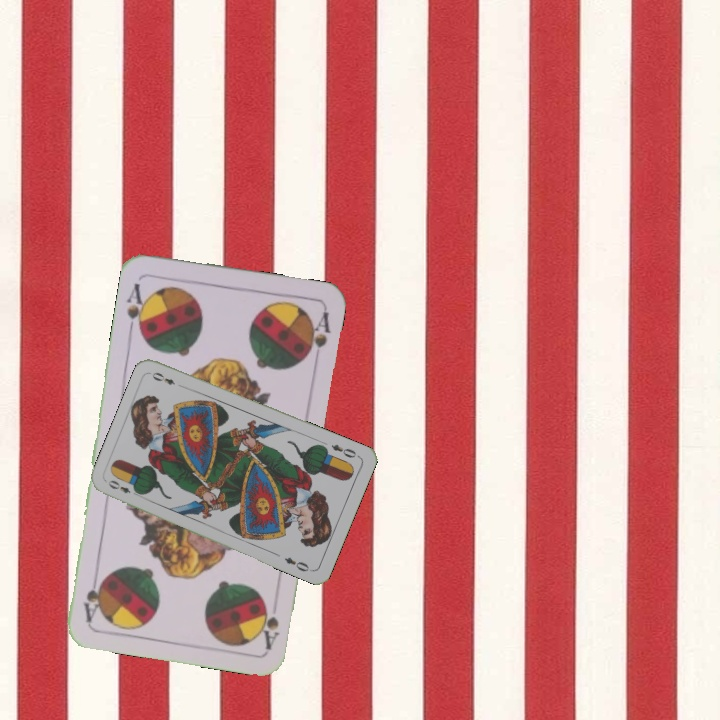EO: (104, 476, 142, 499), (327, 440, 362, 461)
SA: (122, 279, 151, 337), (257, 599, 282, 652)
